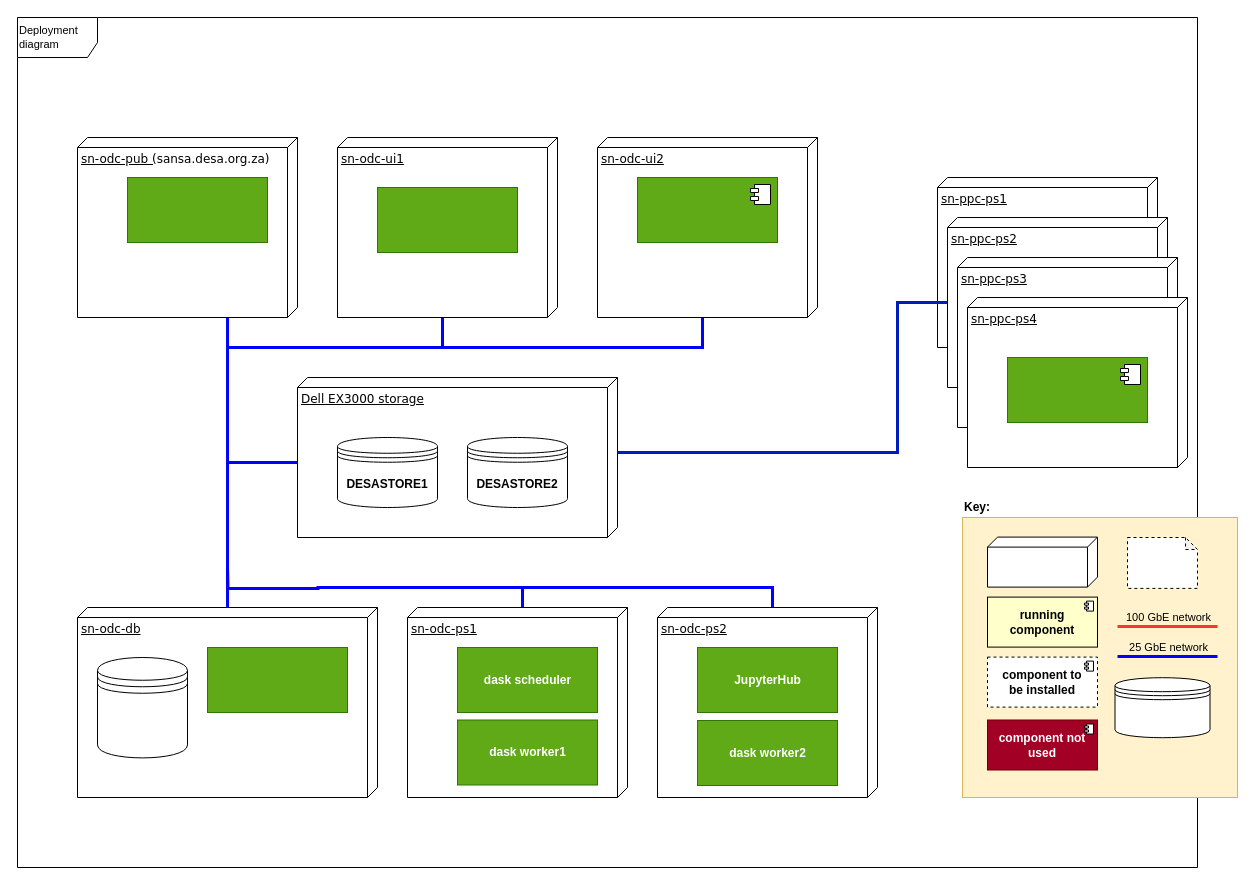
The diagram is 1255 pixels wide and 885 high, and some of its shapes have lost their labels. Each missing label, with the centre of its shape:
"Data Store" belongs at (x=1162, y=707).
"datacube CLI" belongs at (x=277, y=679).
"datacube DB SPOT ARD data index" belongs at (x=142, y=707).
"datacube-explorer" belongs at (x=447, y=219).
"datacube-ows" belongs at (x=197, y=209).
"hardware" belongs at (x=1042, y=561).
"Note for information only" belongs at (x=1162, y=562).
"PCI CATALYST" belongs at (x=1077, y=389).
"TerriaMap" belongs at (x=707, y=209).
